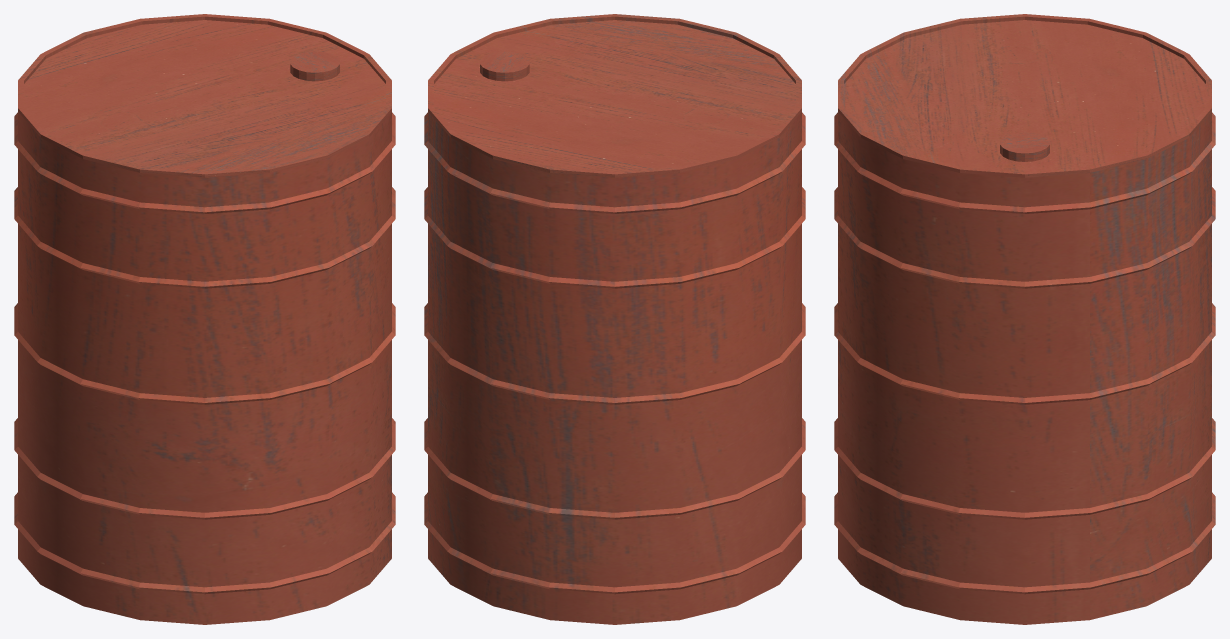
Rendered from BARREL_TEXD.fbx.
3 renders of one model, left to right at view 1: azimuth 30°, elevation 25°; view 2: azimuth 150°, elevation 25°; view 3: azimuth 270°, elevation 25°, orthographic.
Parts seen in each view (by area): view 1: pasted__Oil Drum; view 2: pasted__Oil Drum; view 3: pasted__Oil Drum.
Boxes of the visible parts, bbox=[...] form: pasted__Oil Drum: bbox=[14, 14, 395, 624]; pasted__Oil Drum: bbox=[424, 14, 805, 624]; pasted__Oil Drum: bbox=[834, 14, 1215, 624].
Size of the model in its own units: 102 by 132 by 100.
